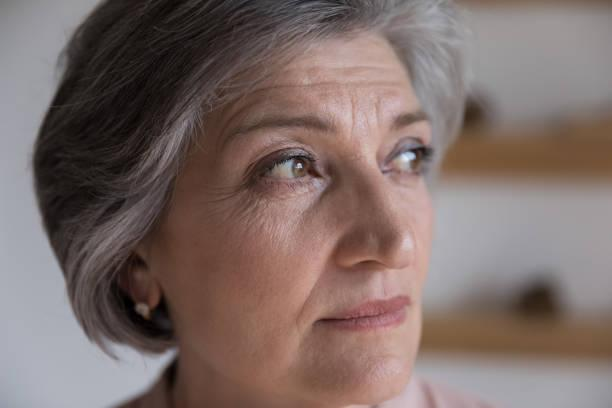Dry-Skin: (358, 177, 447, 270), (206, 218, 290, 296), (339, 320, 397, 400), (309, 52, 360, 94)
